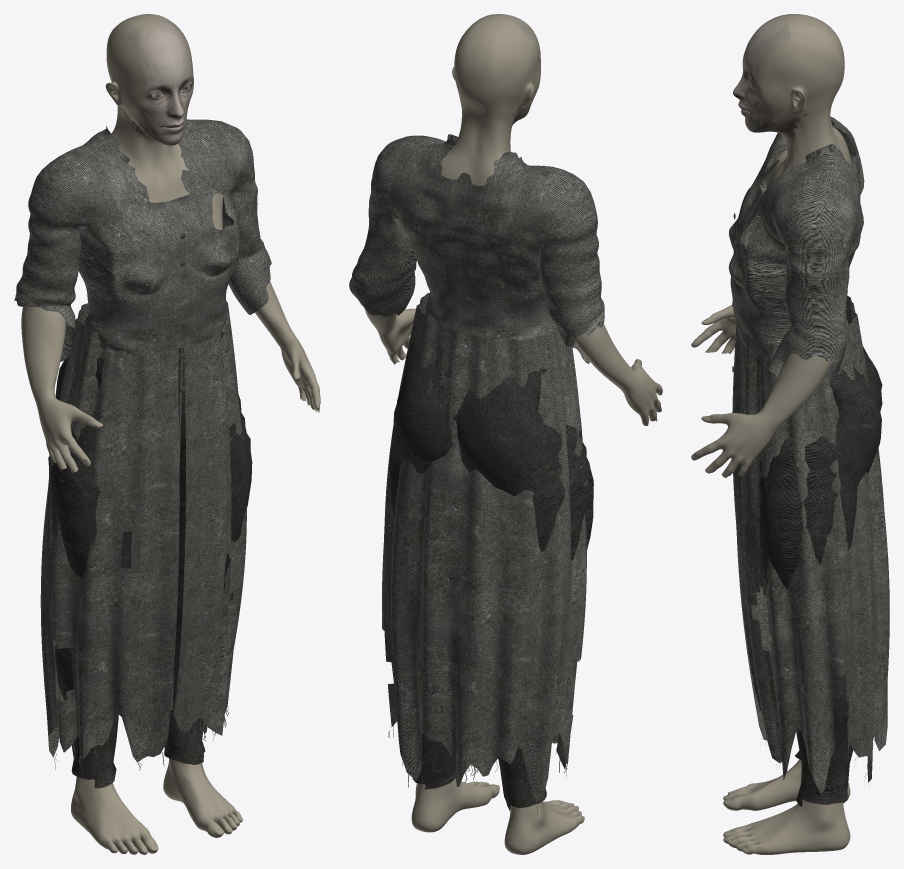
The model's file is Huesped-v2.glb.
3 renders of one model, left to right at view 1: azimuth 30°, elevation 25°; view 2: azimuth 150°, elevation 25°; view 3: azimuth 270°, elevation 25°, orthographic.
Parts seen in each view (by area): view 1: EL_HUESPED_II | Anatomical static character; view 2: EL_HUESPED_II | Anatomical static character; view 3: EL_HUESPED_II | Anatomical static character.
Boxes of the visible parts, bbox=[...] form: EL_HUESPED_II | Anatomical static character: bbox=[14, 14, 320, 854]; EL_HUESPED_II | Anatomical static character: bbox=[349, 14, 662, 854]; EL_HUESPED_II | Anatomical static character: bbox=[691, 14, 889, 854].
Bounding box in the file's own units: 0.6583 × 1.93 × 0.4317.
Materials: 6 (4 with a texture image).
